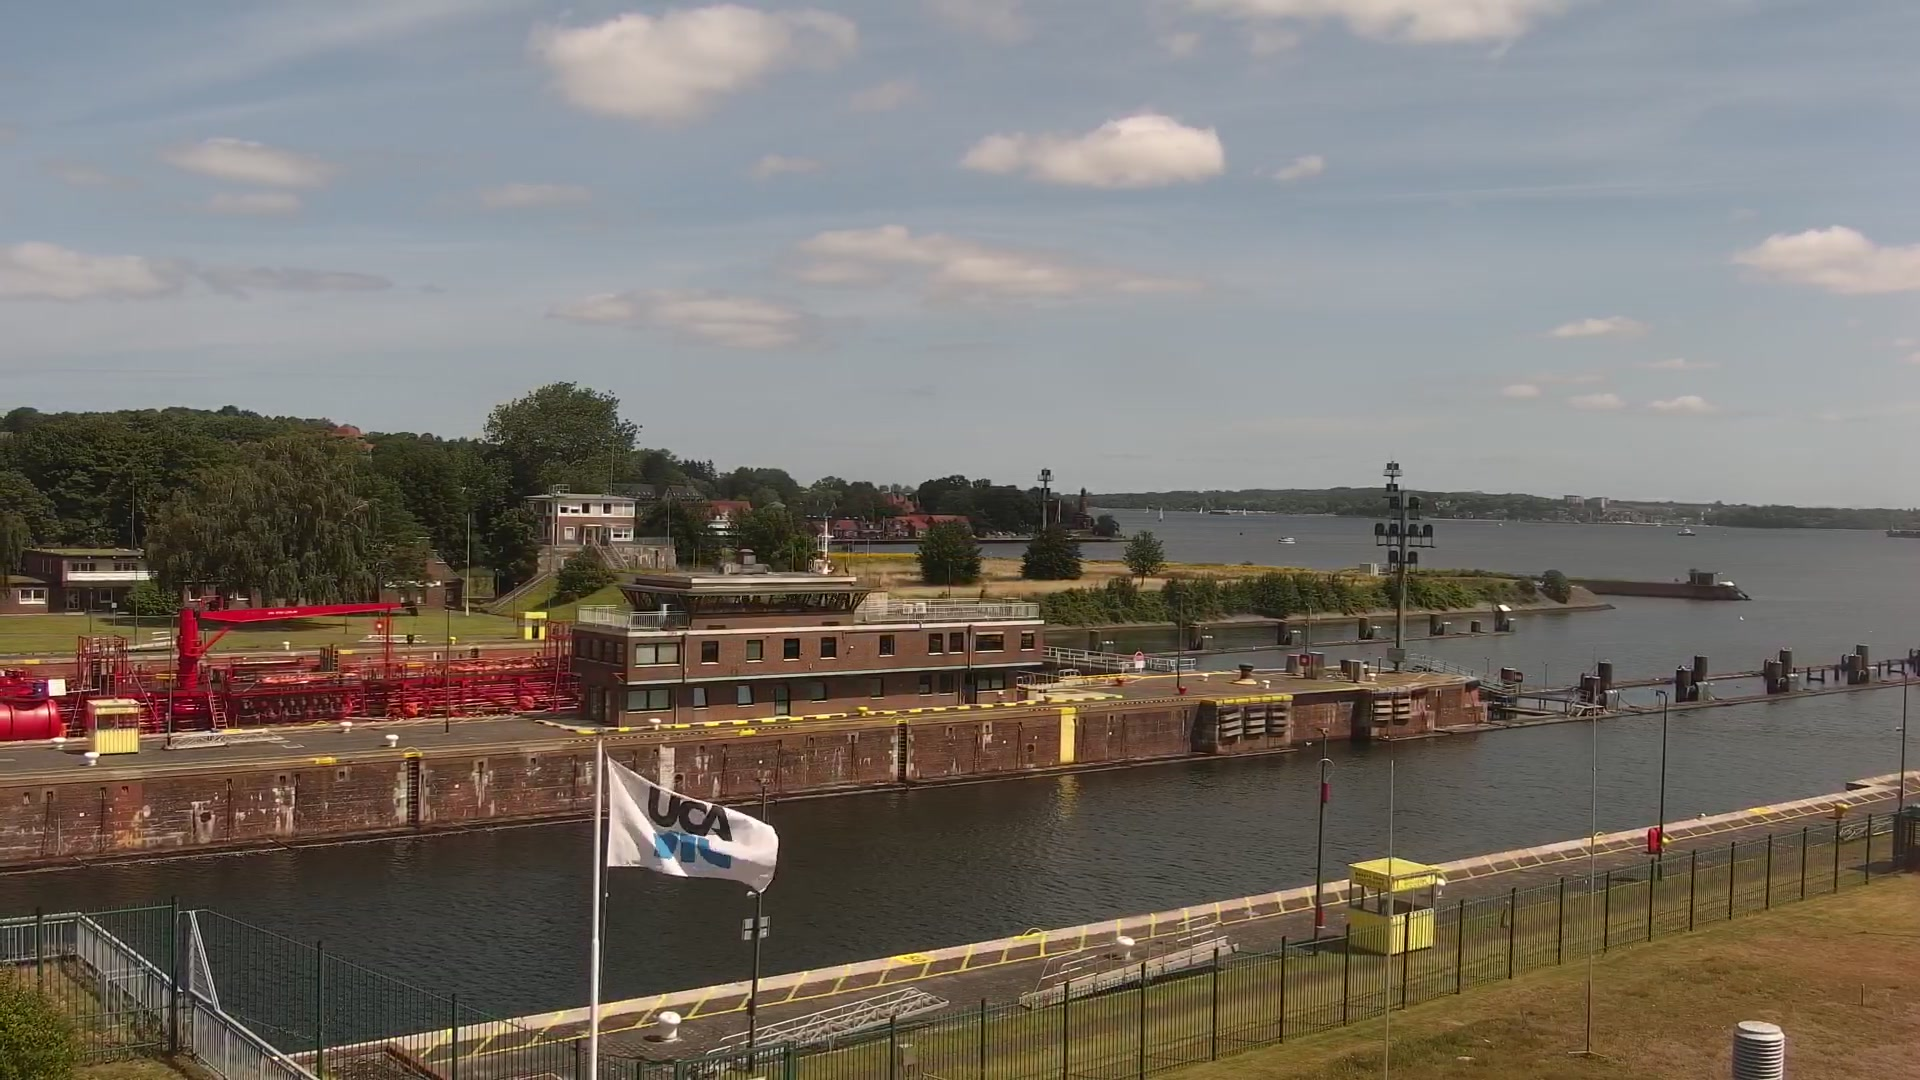sea: (1, 601, 584, 742), (1886, 520, 1920, 538), (1677, 525, 1696, 535), (1276, 535, 1296, 543), (1156, 506, 1163, 521), (1197, 505, 1203, 514), (1241, 506, 1246, 516), (1143, 505, 1149, 513)
